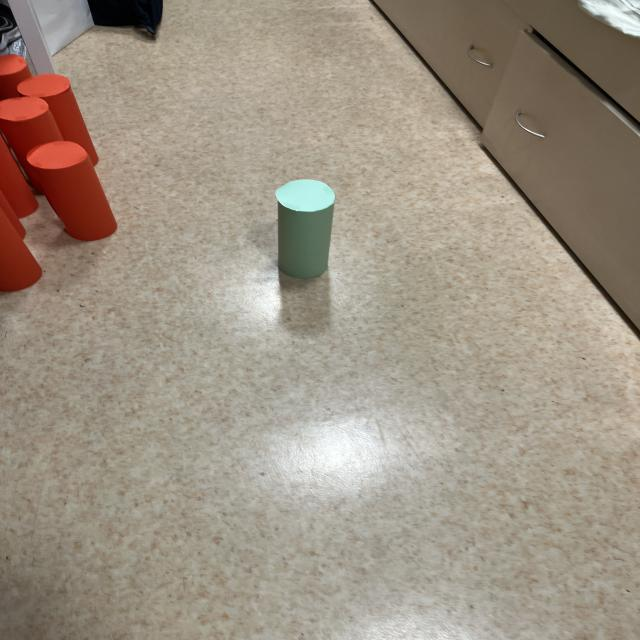meta: (276, 180, 335, 278)
